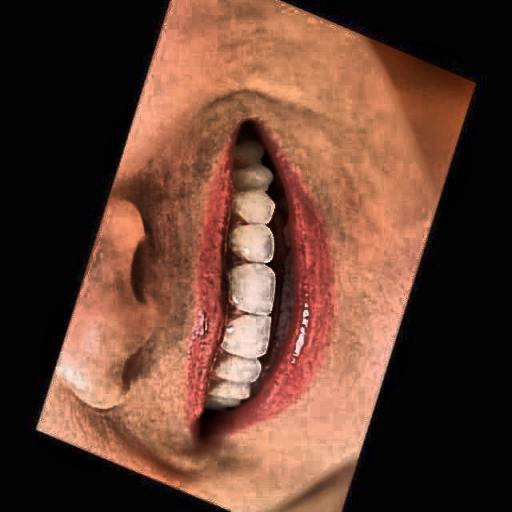Healthy: (182, 115, 338, 444)
